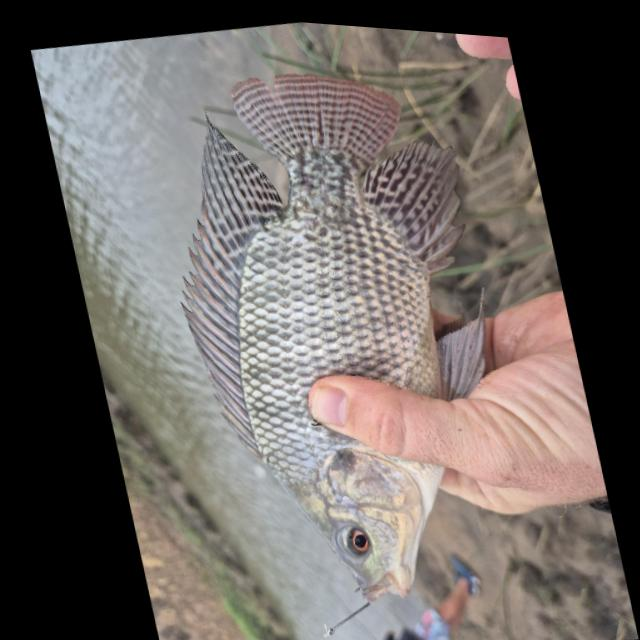Tilapia: (136, 33, 551, 636)
